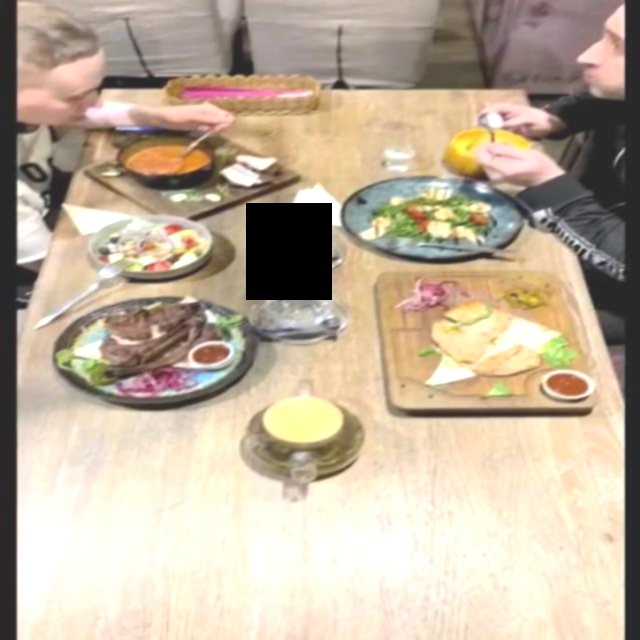meat: (375, 271, 610, 417), (50, 295, 260, 405)
salad: (344, 175, 528, 260), (85, 212, 214, 280)
soup: (85, 133, 305, 221), (442, 128, 532, 178)
tea: (209, 390, 375, 503)
